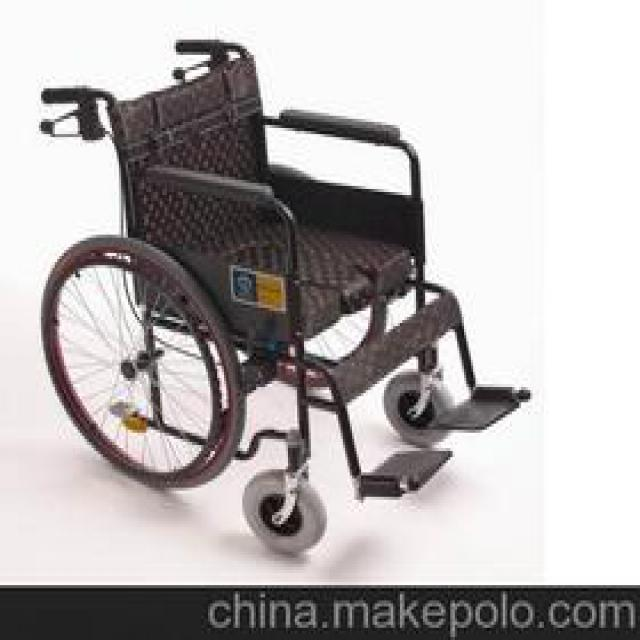wheelchair: (32, 27, 533, 558)
